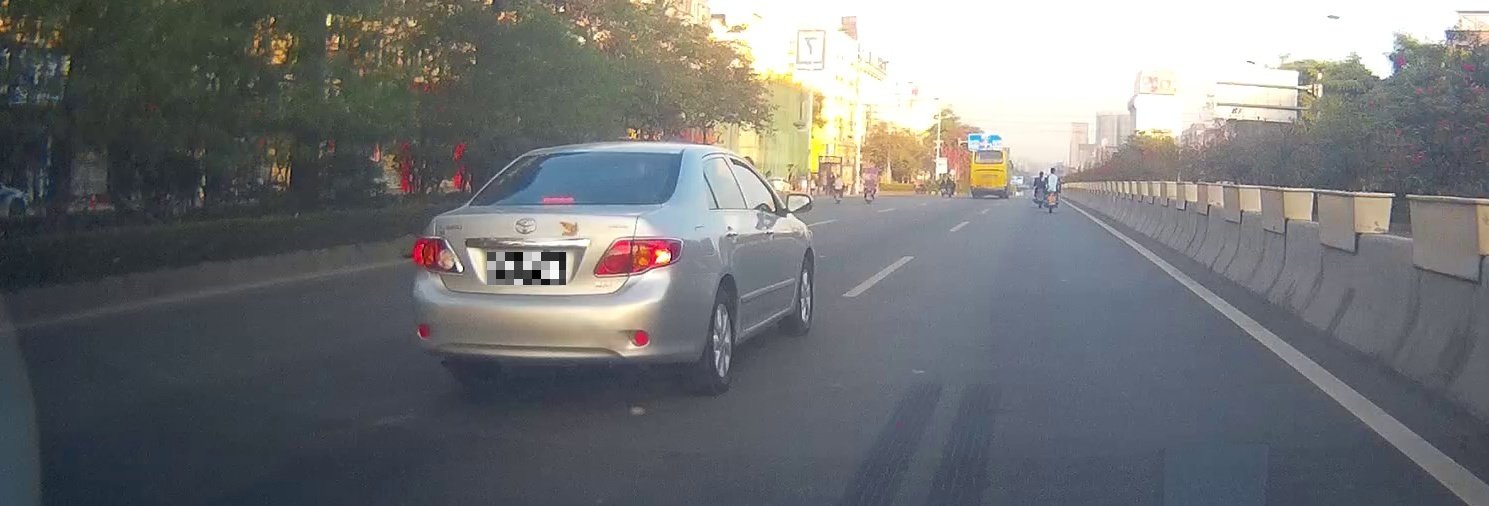L_light: (411, 235, 464, 276)
R_light: (593, 236, 684, 279)
T_light: (540, 194, 576, 204)
day-brake: (410, 142, 701, 390)
plate_1: (487, 252, 566, 285)
